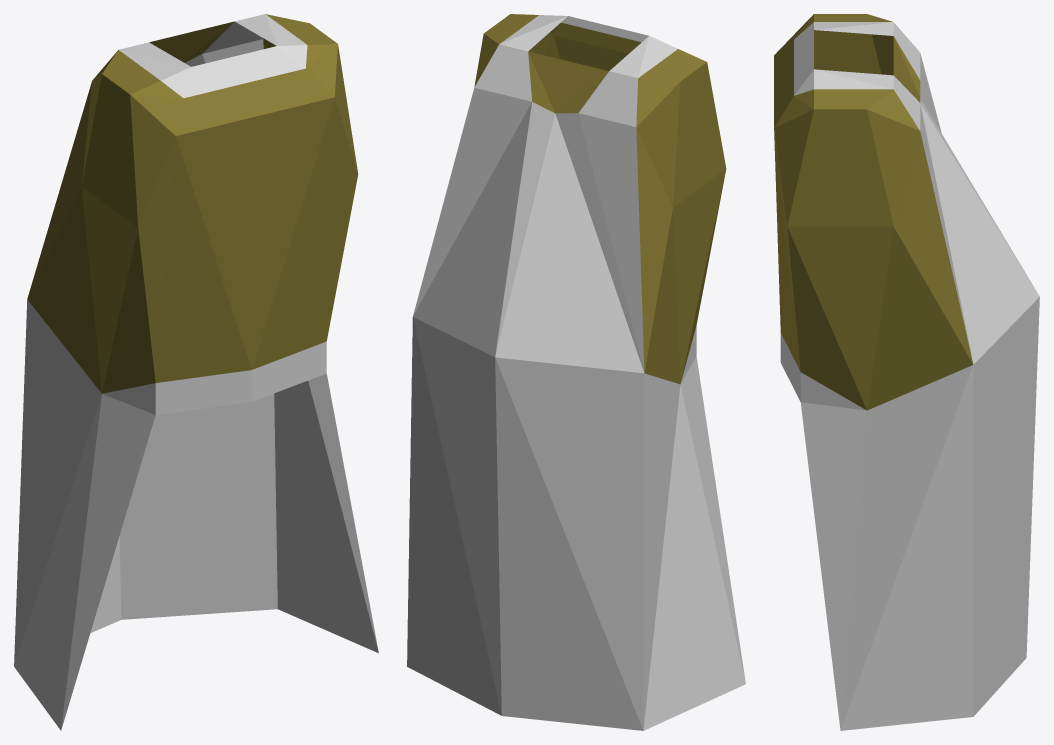
The model's file is npc_world_silver_merchant_1.obj.
3 renders of one model, left to right at view 1: azimuth 30°, elevation 25°; view 2: azimuth 150°, elevation 25°; view 3: azimuth 270°, elevation 25°, orthographic. The views are drawn at different scales.
Bounding box in the file's own units: 0.4062 × 0.7891 × 0.3125.
